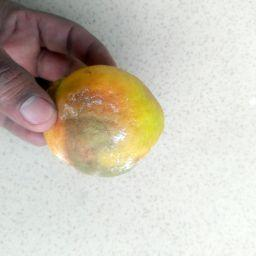orange: (42, 63, 166, 179)
